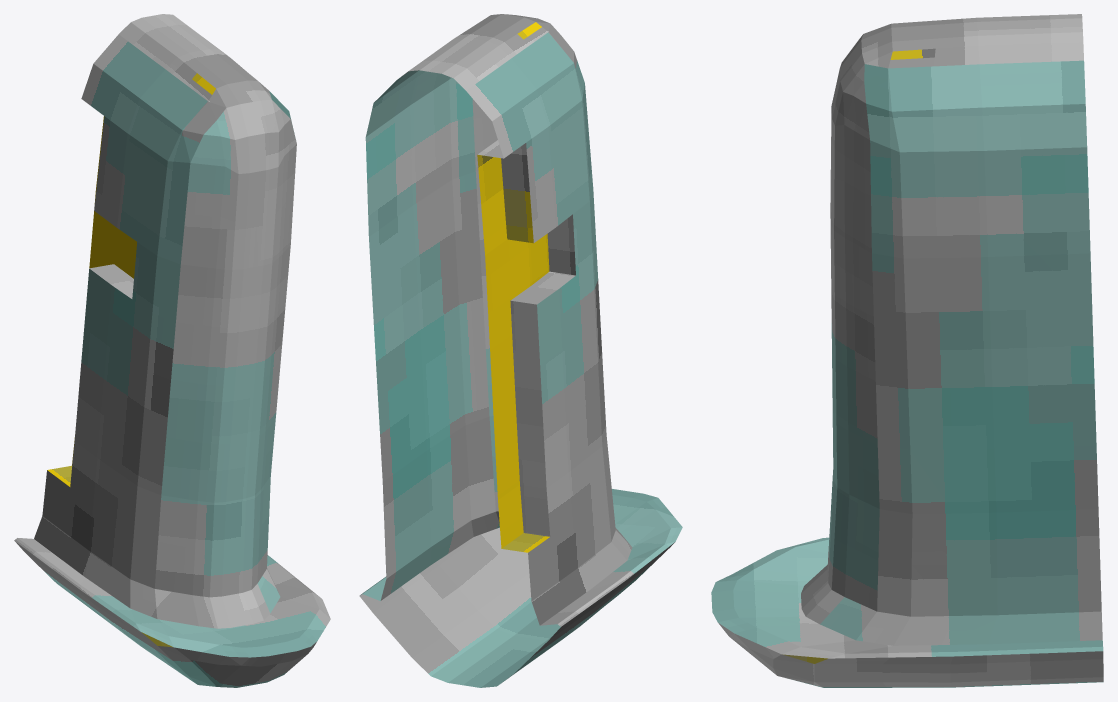
Rendered from TombBreak.gltf.
The picture shows the model from 3 angles, left to right: view 1: azimuth 30°, elevation 25°; view 2: azimuth 150°, elevation 25°; view 3: azimuth 270°, elevation 25°; orthographic projection. The views are drawn at different scales.
Visible parts, largest first — view 1: tombBreakR; view 2: tombBreakR; view 3: tombBreakR.
Boxes of the visible parts, box(x1,y1,x2,y2) form: tombBreakR: box(14, 14, 330, 687); tombBreakR: box(359, 14, 682, 687); tombBreakR: box(711, 14, 1103, 687).
Size of the model in its own units: 1.86 by 5.3 by 2.81.
1 material, 1 textured.
